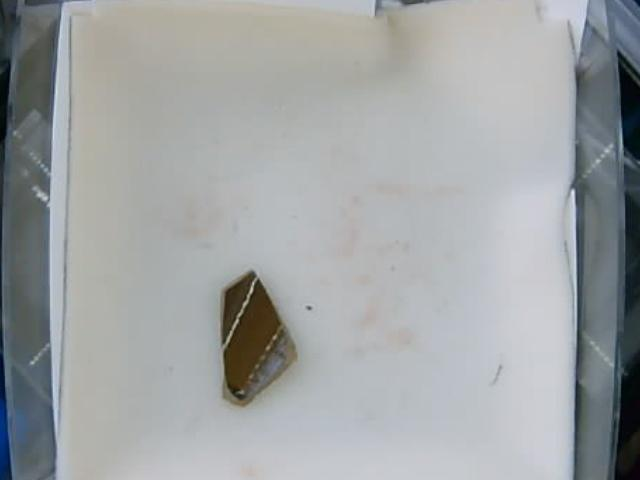China: (219, 268, 300, 407)
